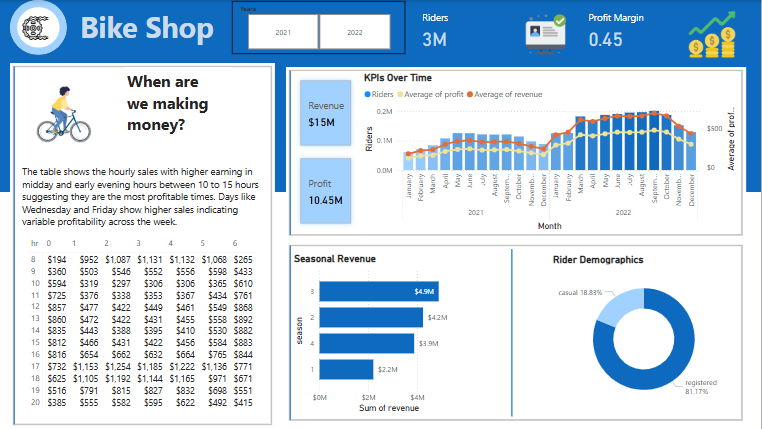

The dashboard page shown, as its layout file describes it:
{"tool":"powerbi","page":{"name":"Page 1","canvas":[1280,720],"ordinal":0},"visuals":[{"type":"shape","box":[0,0,1280,322.5],"z":0},{"type":"cardVisual","fields":{"Data":["Min(Query1.rider_type)"]},"box":[18.5,105.8,445.1,613.1],"z":1000},{"type":"cardVisual","fields":{"Data":["Min(Query1.rider_type)"]},"box":[482.1,112.5,772.7,288.9],"z":2000},{"type":"cardVisual","fields":{"Data":["Min(Query1.rider_type)"]},"box":[482.1,406.5,772.7,305.7],"z":3000},{"type":"cardVisual","fields":{"Data":["Min(Query1.rider_type)"]},"box":[30.2,112.5,168,161.3],"z":4000},{"type":"pivotTable","fields":{"Values":["Avg(Query1.revenue)"],"Columns":["Query1.weekday"],"Rows":["Query1.hr"]},"box":[43.7,394.8,396.4,300.7],"z":5000},{"type":"textbox","box":[210,112.5,181.4,137.7],"z":6000},{"type":"textbox","box":[33.6,272.1,416.6,122.6],"z":7000},{"type":"lineClusteredColumnComboChart","title":"KPIs Over Time","fields":{"Category":["Query1.dteday.Variation.Date Hierarchy.Year","Query1.dteday.Variation.Date Hierarchy.Month"],"Y":["Sum(Query1.riders)"],"Y2":["Avg(Query1.profit)","Avg(Query1.revenue)"]},"box":[608.1,119.3,633.3,273.8],"z":8000},{"type":"clusteredBarChart","title":"Seasonal Revenue","fields":{"Category":["Query1.season"],"Y":["Sum(Query1.revenue)"]},"box":[490.5,423.3,299,275.5],"z":9000},{"type":"donutChart","title":"Rider Demographics","fields":{"Category":["Query1.rider_type"],"Y":["Sum(Query1.riders)"]},"box":[925.6,425,315.8,270.4],"z":10000},{"type":"shape","box":[855,418.3,13.4,280.5],"z":11000},{"type":"cardVisual","fields":{"Data":["Sum(Query1.revenue)","Sum(Query1.profit)"]},"box":[490.5,119.3,117.6,273.8],"z":12000},{"type":"cardVisual","fields":{"Data":["Sum(Query1.riders)","Query1.Profit Margin"]},"box":[693.8,1.7,561,104.1],"z":12001},{"type":"shape","box":[18.5,0,95.7,92.4],"z":12002},{"type":"image","box":[33.6,16.8,55.4,60.5],"z":12003},{"type":"textbox","box":[131,6.7,248.6,80.6],"z":12004},{"type":"slicer","fields":{"Values":["Query1.Years"]},"box":[391.4,1.7,290.6,89],"z":12005}]}

Visuals, with their boxes in screenshot pixels (x1, y1, x2, y2), scaled from the page's 1280x720 canvas onto the 762x429 screenshot:
shape: (left=0, top=0, right=761, bottom=192)
cardVisual - Min(Query1.rider_type): (left=11, top=63, right=276, bottom=428)
cardVisual - Min(Query1.rider_type): (left=287, top=67, right=747, bottom=239)
cardVisual - Min(Query1.rider_type): (left=287, top=242, right=747, bottom=424)
cardVisual - Min(Query1.rider_type): (left=18, top=67, right=118, bottom=163)
pivotTable - Avg(Query1.revenue) x Query1.weekday: (left=26, top=235, right=262, bottom=414)
textbox: (left=125, top=67, right=233, bottom=149)
textbox: (left=20, top=162, right=268, bottom=235)
"KPIs Over Time" lineClusteredColumnComboChart: (left=362, top=71, right=739, bottom=234)
"Seasonal Revenue" clusteredBarChart: (left=292, top=252, right=470, bottom=416)
"Rider Demographics" donutChart: (left=551, top=253, right=739, bottom=414)
shape: (left=509, top=249, right=517, bottom=416)
cardVisual - Sum(Query1.revenue) x Sum(Query1.profit): (left=292, top=71, right=362, bottom=234)
cardVisual - Sum(Query1.riders) x Query1.Profit Margin: (left=413, top=1, right=747, bottom=63)
shape: (left=11, top=0, right=68, bottom=55)
image: (left=20, top=10, right=53, bottom=46)
textbox: (left=78, top=4, right=226, bottom=52)
slicer - Query1.Years: (left=233, top=1, right=406, bottom=54)
